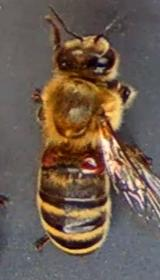varroa_mite: (33, 139, 65, 171), (75, 150, 109, 180)
